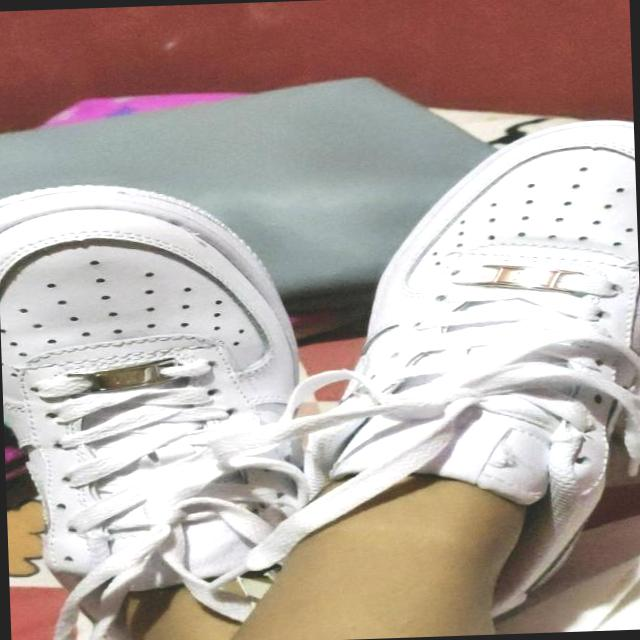nike_fake_airforce: (0, 173, 322, 640), (328, 112, 640, 571)
